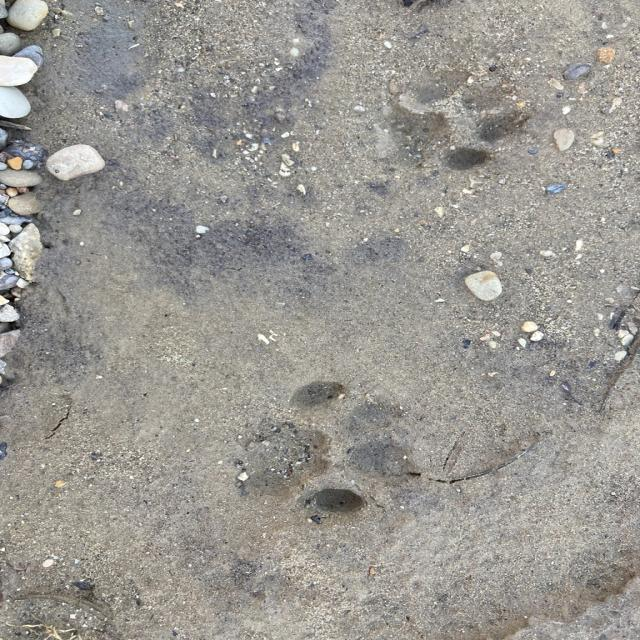felid: (240, 379, 415, 519), (390, 66, 528, 169)
